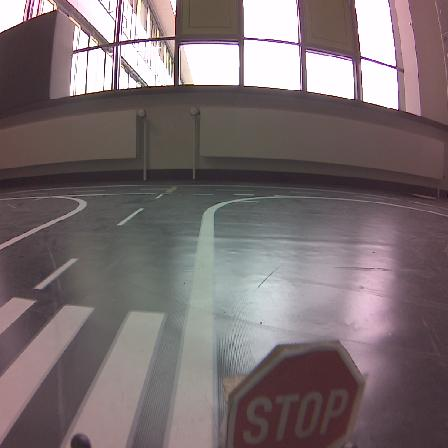STOP: (226, 342, 364, 447)
